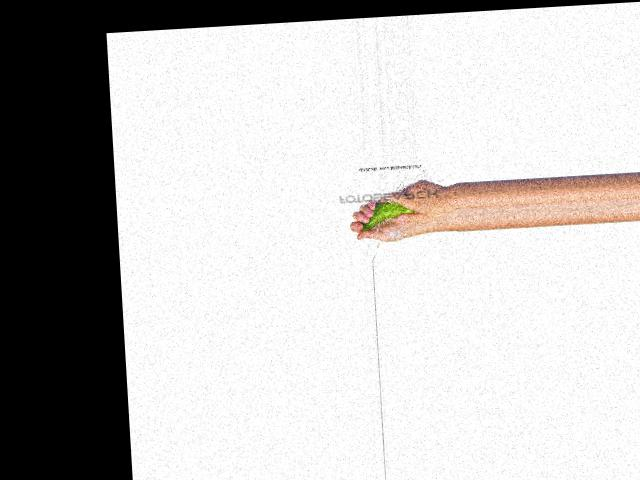cucumber: (359, 198, 417, 231)
